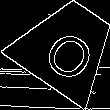O_NE: (34, 14, 100, 80)
